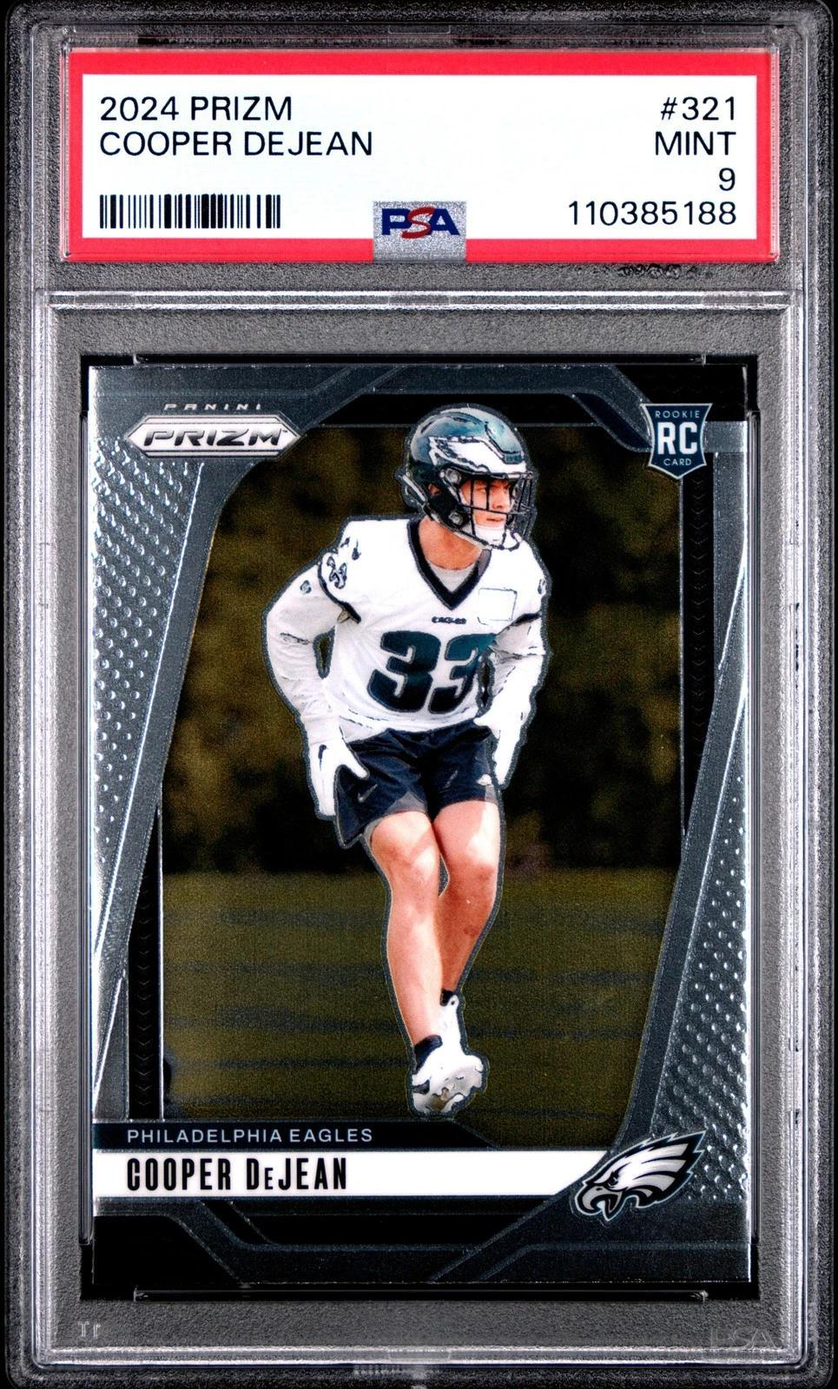card-2UtV: (87, 362, 753, 1285)
